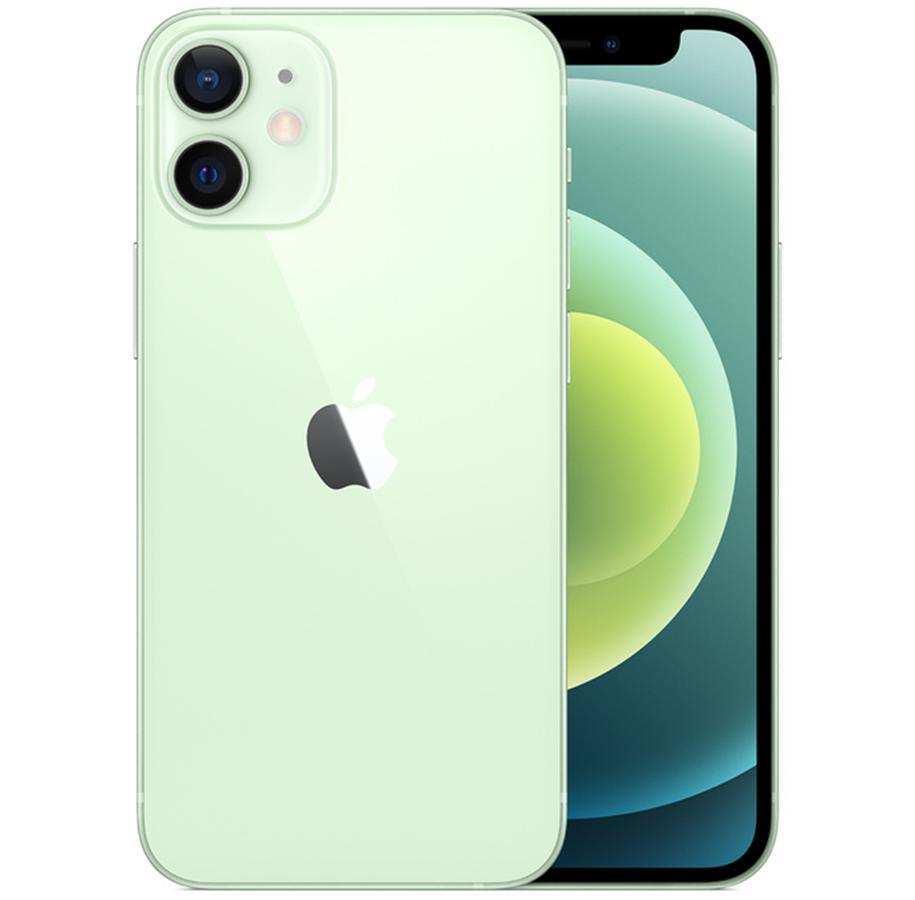-iphone12: (112, 6, 829, 900)
